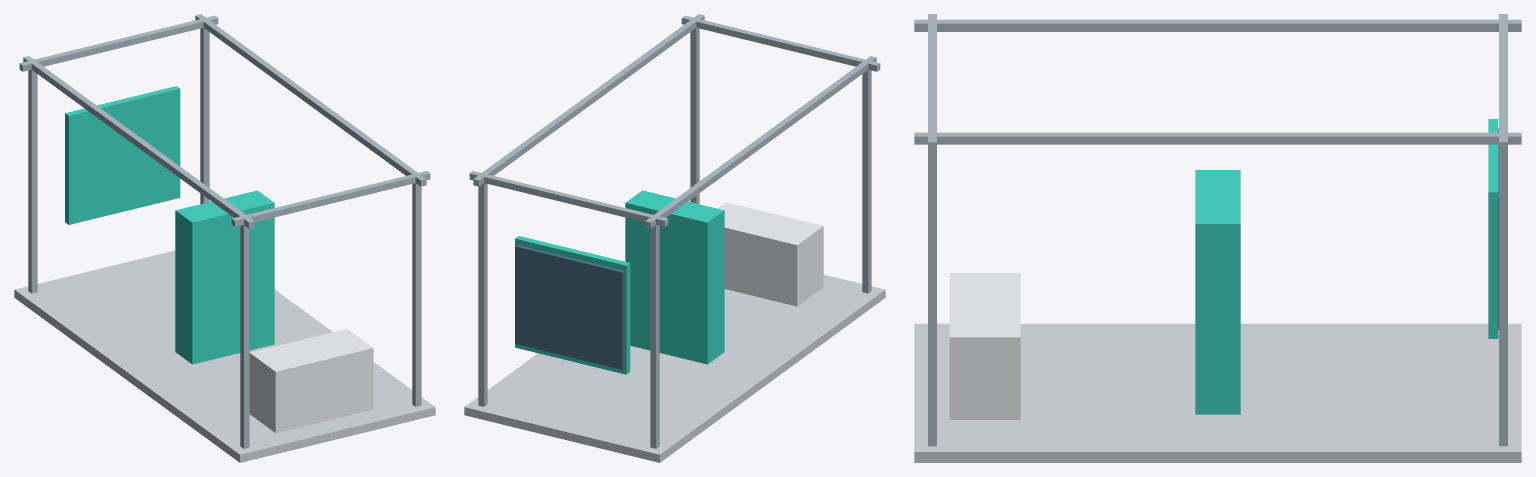
The picture shows the model from 3 angles, left to right: view 1: azimuth 30°, elevation 25°; view 2: azimuth 150°, elevation 25°; view 3: azimuth 270°, elevation 25°; orthographic projection. The views are drawn at different scales.
Visible parts, largest first — view 1: Exhibition Booth Concept; view 2: Exhibition Booth Concept; view 3: Exhibition Booth Concept.
Boxes of the visible parts, box(x1,y1,x2,y2) form: Exhibition Booth Concept: box(14, 14, 435, 462); Exhibition Booth Concept: box(464, 14, 885, 462); Exhibition Booth Concept: box(914, 14, 1521, 462).
Bounding box in the file's own units: 3 × 3.49 × 6.
